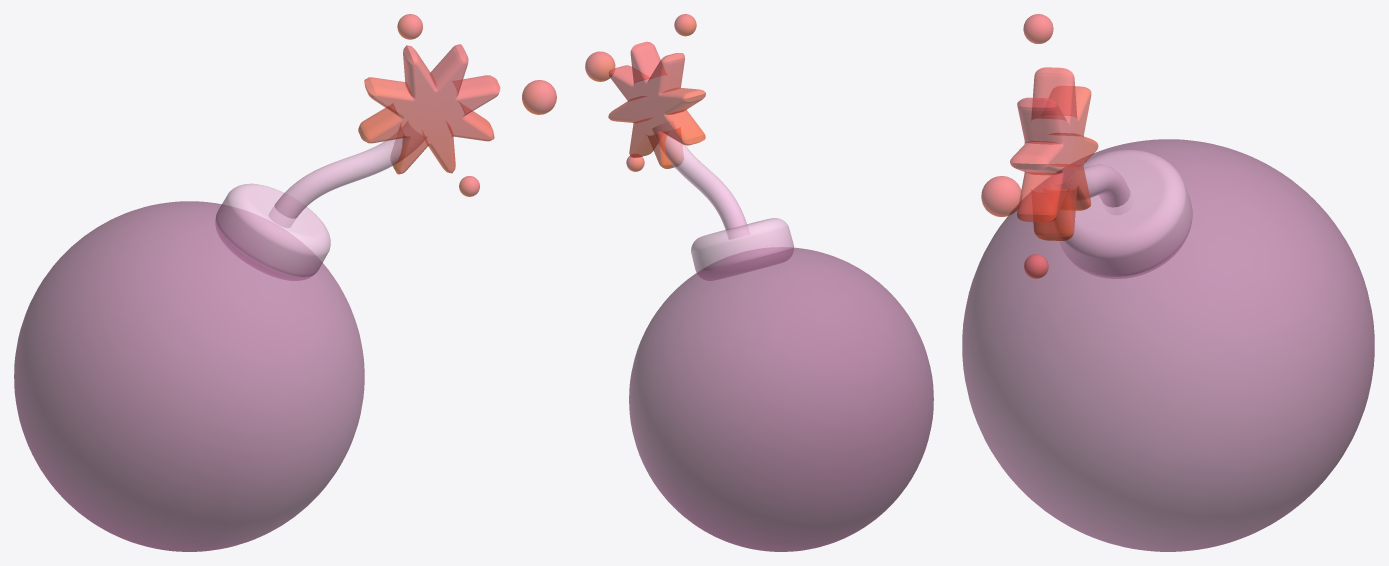
File: lit-fuse.glb
3 renders of one model, left to right at view 1: azimuth 30°, elevation 25°; view 2: azimuth 150°, elevation 25°; view 3: azimuth 270°, elevation 25°, orthographic. The views are drawn at different scales.
Visible parts, largest first — view 1: bomb, spark, cap, fuse, ember_1; view 2: bomb, spark, cap, fuse, ember_1; view 3: bomb, cap, spark, fuse, ember_1, ember_2.
Part boxes in pixels (<box>): bomb: <box>14,201,364,551</box>; spark: <box>358,44,500,174</box>; cap: <box>216,183,330,280</box>; fuse: <box>269,122,426,227</box>; ember_1: <box>522,80,556,114</box>; bomb: <box>629,247,933,551</box>; spark: <box>608,41,705,168</box>; cap: <box>691,218,793,280</box>; fuse: <box>652,121,749,239</box>; ember_1: <box>585,51,615,81</box>; bomb: <box>962,139,1374,551</box>; cap: <box>1054,150,1192,278</box>; spark: <box>1010,67,1098,240</box>; fuse: <box>1050,164,1132,214</box>; ember_1: <box>981,176,1022,216</box>; ember_2: <box>1023,14,1053,43</box>.
Bounding box in the file's own units: 0.8811 × 0.9818 × 0.5993.
